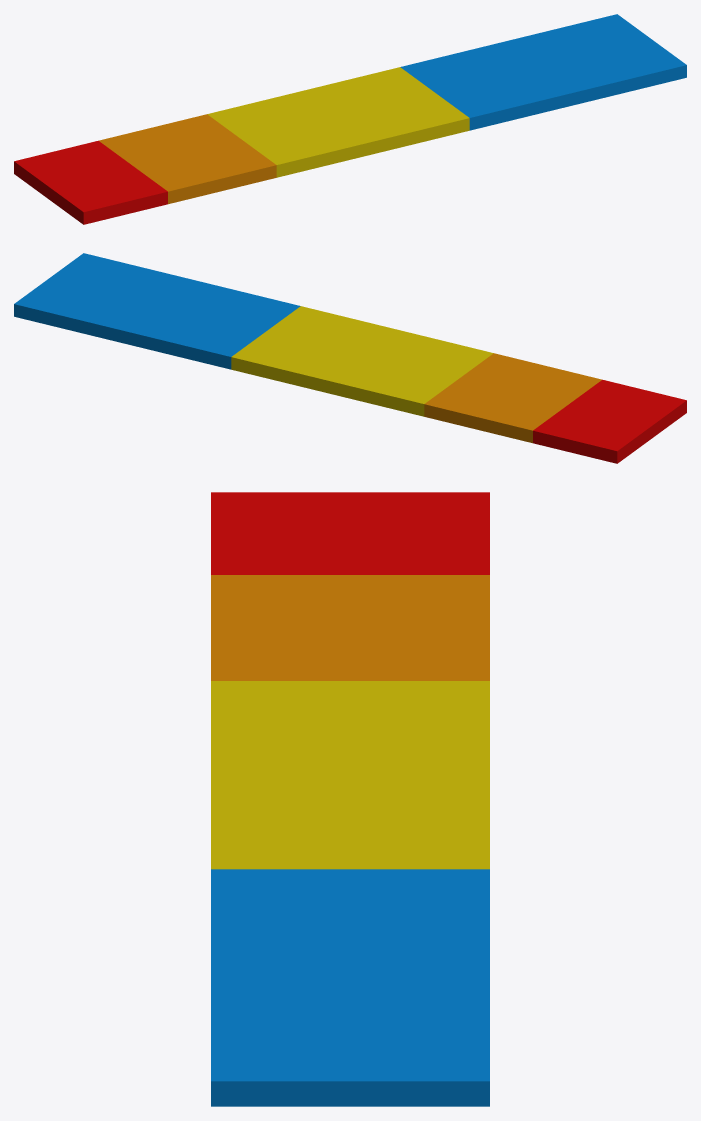
Rendered from Sundome.fbx.
3 renders of one model, top to bottom at view 1: azimuth 30°, elevation 25°; view 2: azimuth 150°, elevation 25°; view 3: azimuth 270°, elevation 25°, orthographic. The views are drawn at different scales.
Parts seen in each view (by area): view 1: Terrain; view 2: Terrain; view 3: Terrain.
Part boxes in pixels (left/top/right/bottom): Terrain: left=14, top=14, right=686, bottom=224; Terrain: left=14, top=253, right=686, bottom=463; Terrain: left=211, top=492, right=489, bottom=1106.
Bounding box in the file's own units: 50 × 1 × 10.
1 material, 1 textured.
